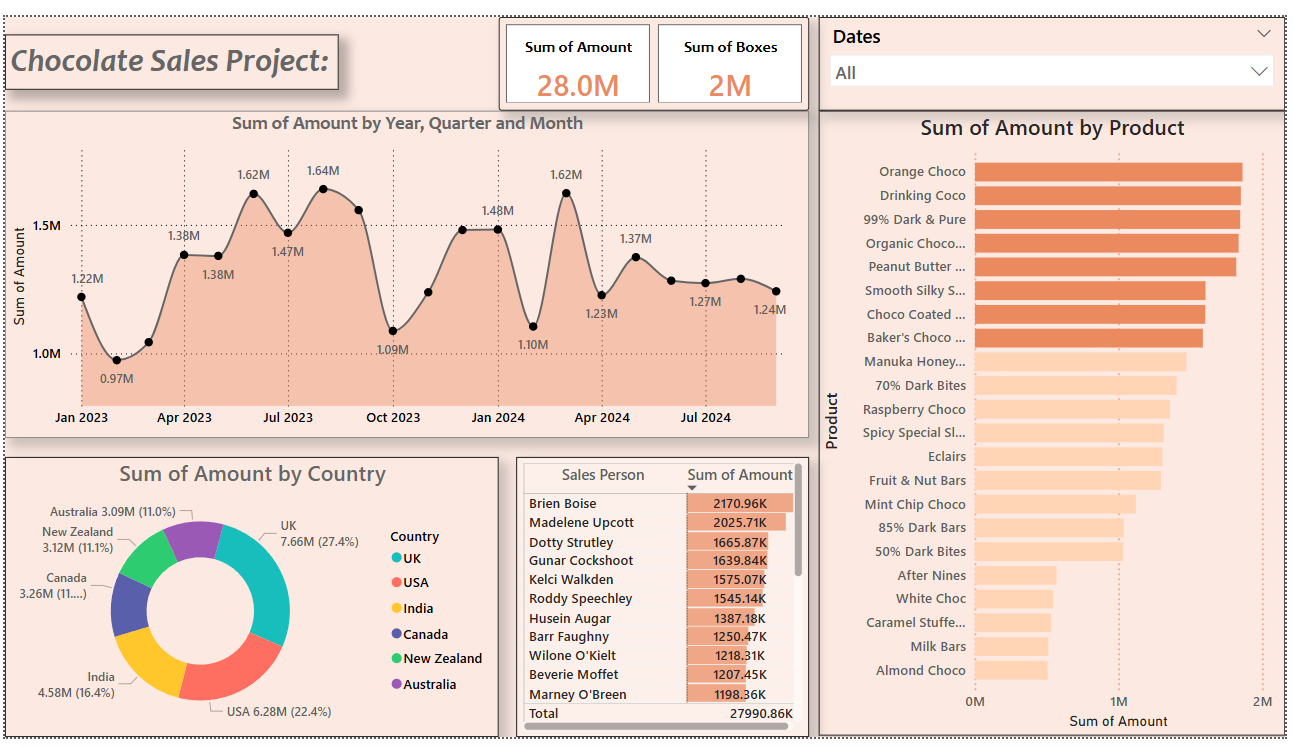

The dashboard page shown, as its layout file describes it:
{"tool":"powerbi","page":{"name":"Page 1","canvas":[1280,720],"ordinal":0},"visuals":[{"type":"lineChart","fields":{"Category":["data.Date.Variation.Date Hierarchy.Year","data.Date.Variation.Date Hierarchy.Quarter","data.Date.Variation.Date Hierarchy.Month","data.Date.Variation.Date Hierarchy.Day"],"Y":["data.Amount"]},"box":[0,93.8,803.6,327.5],"z":0},{"type":"donutChart","fields":{"Category":["data.Country"],"Y":["data.Amount"]},"box":[0,440,493.4,279.9],"z":1000},{"type":"tableEx","fields":{"Values":["data.Sales Person","data.Amount"]},"box":[510.7,440,292.9,279.9],"z":2000},{"type":"clusteredBarChart","fields":{"Category":["data.Product"],"Y":["data.Amount"]},"box":[813.7,93.8,466,624.7],"z":3000},{"type":"textbox","box":[0,17.3,399.6,54.8],"z":3500},{"type":"cardVisual","fields":{"Data":["data.Amount","data.Boxes"]},"box":[518,0,285.7,93.8],"z":4000},{"type":"slicer","fields":{"Values":["data.Date"]},"box":[919,0,360.7,93.8],"z":5000}]}

Visuals, with their boxes in screenshot pixels (x1, y1, x2, y2), scaled from the page's 1280x720 canvas onto the 1294x747 screenshot:
lineChart - data.Date.Variation.Date Hierarchy.Year x data.Date.Variation.Date Hierarchy.Quarter: (0, 97, 812, 437)
donutChart - data.Country x data.Amount: (0, 457, 499, 746)
tableEx - data.Sales Person x data.Amount: (516, 457, 812, 746)
clusteredBarChart - data.Product x data.Amount: (823, 97, 1293, 745)
textbox: (0, 18, 404, 75)
cardVisual - data.Amount x data.Boxes: (524, 0, 812, 97)
slicer - data.Date: (929, 0, 1293, 97)
